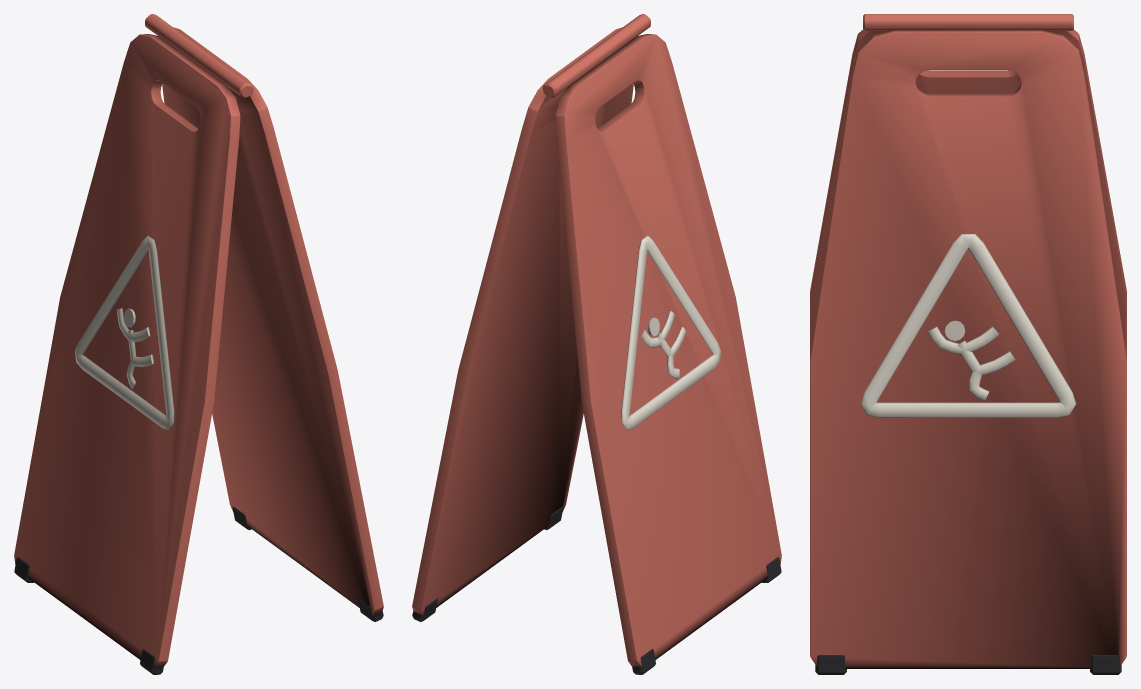
File: junk_sign_wet.glb
3 views of the same model, side by side, from view 1: azimuth 30°, elevation 25°; view 2: azimuth 150°, elevation 25°; view 3: azimuth 270°, elevation 25° (orthographic). The views are drawn at different scales.
Visible parts, largest first — view 1: PART; view 2: PART; view 3: PART.
Boxes of the visible parts, bbox=[...] form: PART: bbox=[14, 14, 383, 674]; PART: bbox=[412, 14, 781, 674]; PART: bbox=[810, 14, 1126, 674].
Bounding box in the file's own units: 0.2776 × 0.6279 × 0.3.
